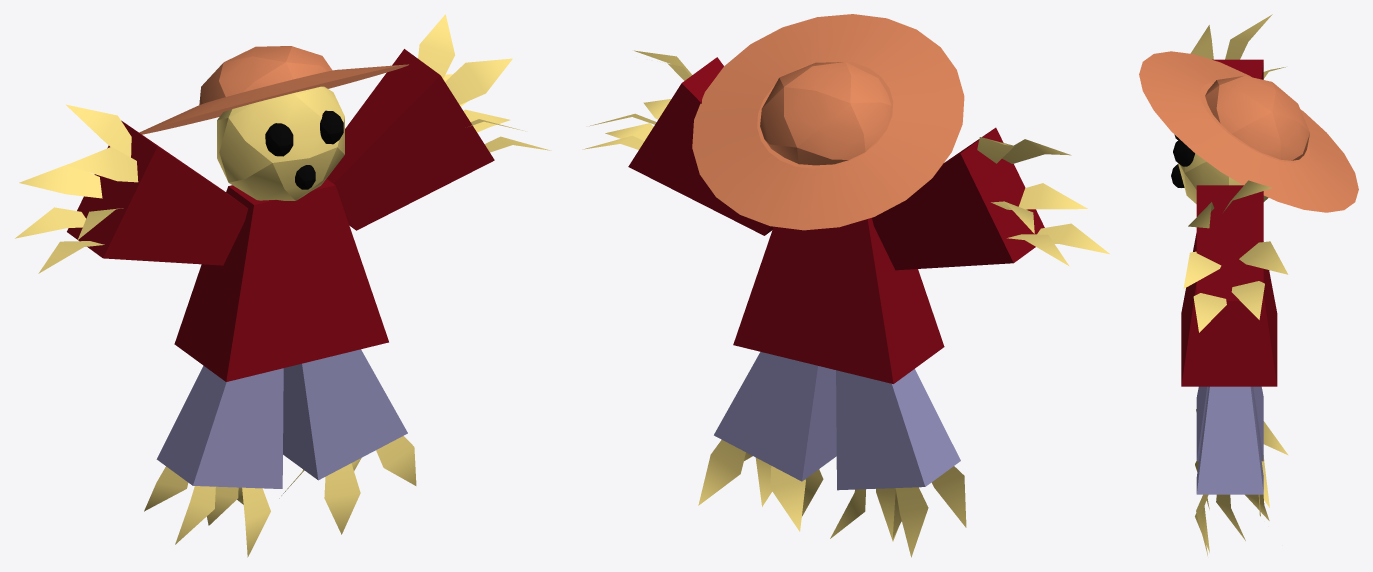
The model's file is scarecrow2.fbx.
The picture shows the model from 3 angles, left to right: view 1: azimuth 30°, elevation 25°; view 2: azimuth 150°, elevation 25°; view 3: azimuth 270°, elevation 25°; orthographic projection. The views are drawn at different scales.
Visible parts, largest first — view 1: mergedBlocks; view 2: mergedBlocks; view 3: mergedBlocks.
Part boxes in pixels (x1,y1,x2,y2): mergedBlocks: (15,14,551,557); mergedBlocks: (582,14,1109,557); mergedBlocks: (1139,14,1358,555).
Bounding box in the file's own units: 20.5 × 18.8 × 8.2.
